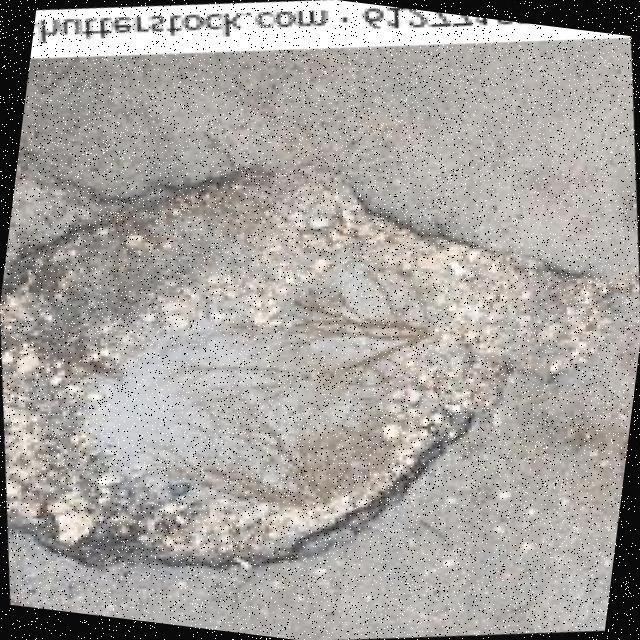Pothole: (0, 166, 613, 569)
